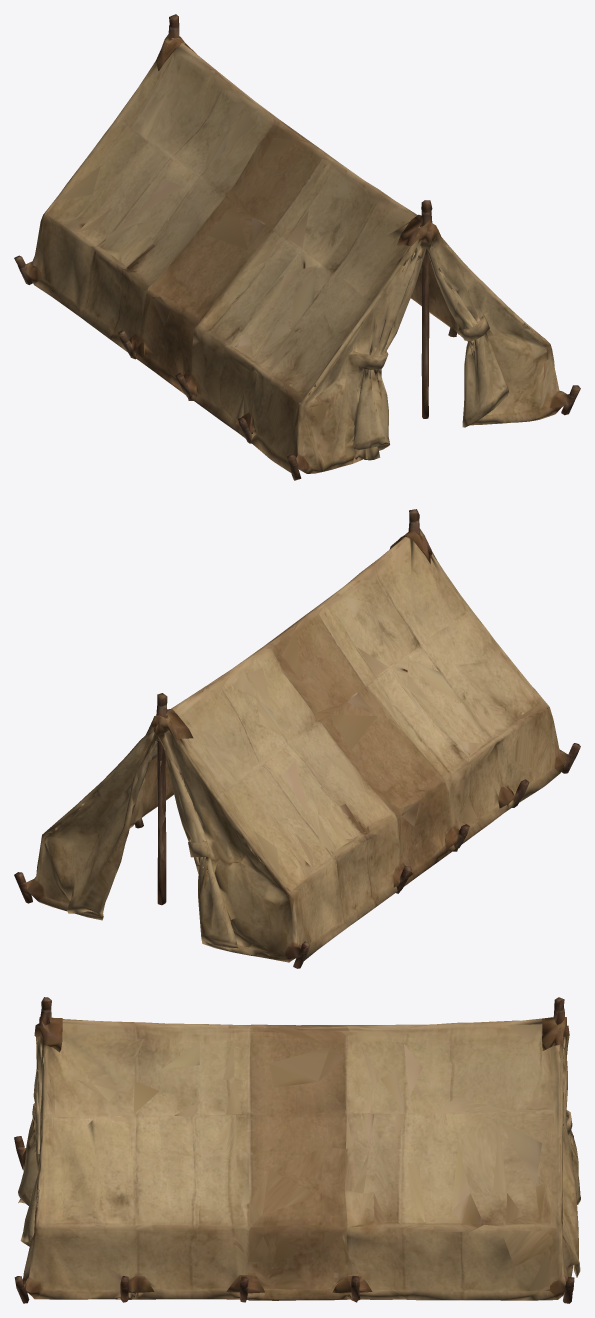
File: prop_tent.glb
3 views of the same model, one above another, from view 1: azimuth 30°, elevation 25°; view 2: azimuth 150°, elevation 25°; view 3: azimuth 270°, elevation 25° (orthographic).
Visible parts, largest first — view 1: prop; view 2: prop; view 3: prop.
Part boxes in pixels (x1=…): prop: x1=14, y1=14, x2=580, y2=480; prop: x1=14, y1=509, x2=580, y2=968; prop: x1=14, y1=997, x2=580, y2=1303.
Size of the model in its own units: 1.53 by 1.17 by 2.5.
1 material, 1 textured.
